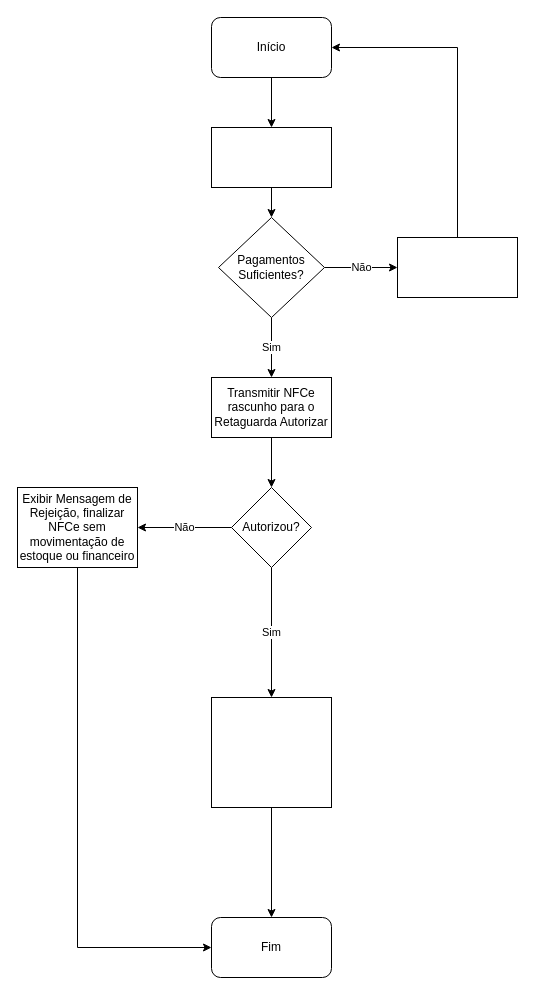
Some shapes in this 535 by 995 pixel diagram are drawn without their labels. The shapes that lost their labels are listed below. From the top down, each one's centre as x and y in pixels, then its label:
At [271,157]: "Clicar em Finalizar".
At [457,267]: "Mensagem de Erro e voltar ao Pagamentos".
At [271,752]: "Realizar Impressão da NFCe, impressão de comprovantes de pagamento.".
